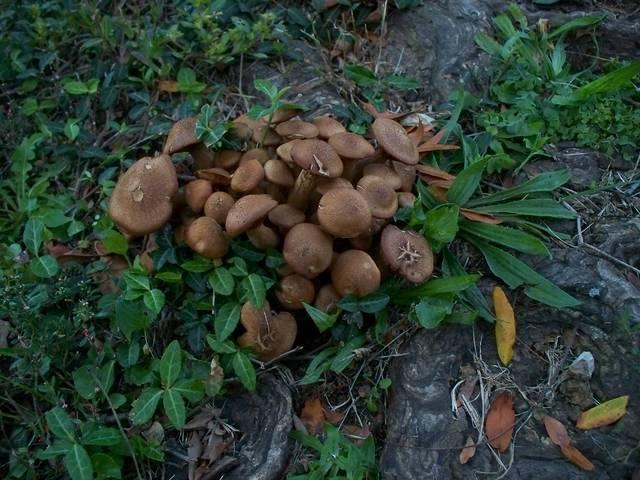Edible Mushroom: (107, 104, 438, 320), (106, 152, 178, 236)
